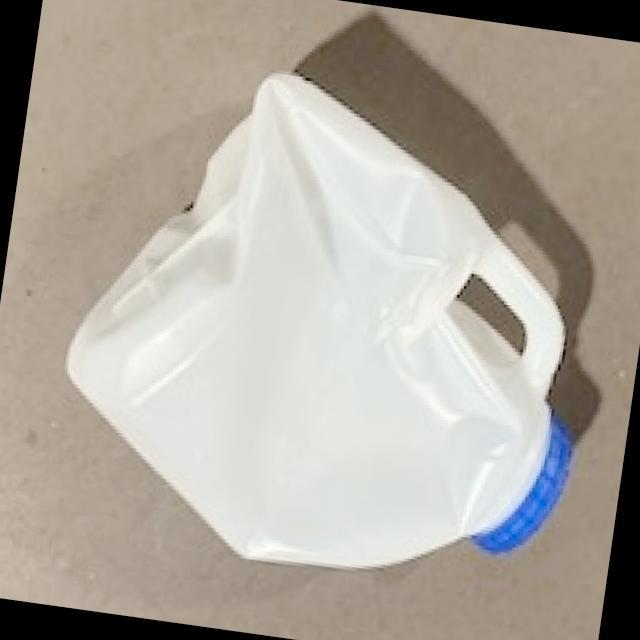HDPE Plastic: (59, 68, 581, 572)
